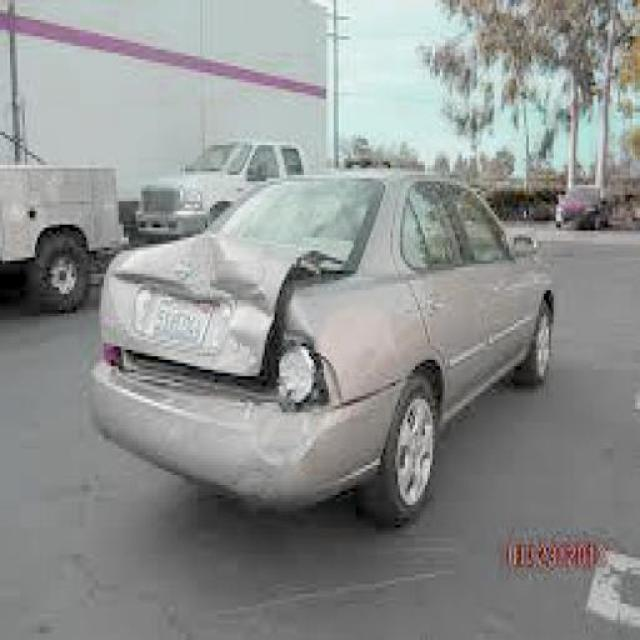Car-Damage: (100, 232, 348, 457)
